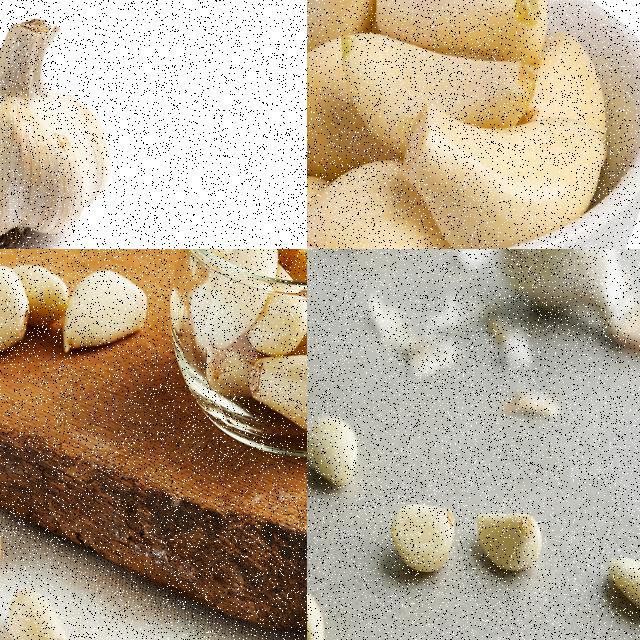garlic: (307, 0, 608, 248), (0, 10, 113, 248), (183, 249, 306, 428), (63, 271, 152, 355), (0, 258, 68, 356), (385, 499, 456, 583), (474, 508, 544, 574), (307, 414, 359, 497), (7, 588, 68, 639), (602, 551, 639, 624)
